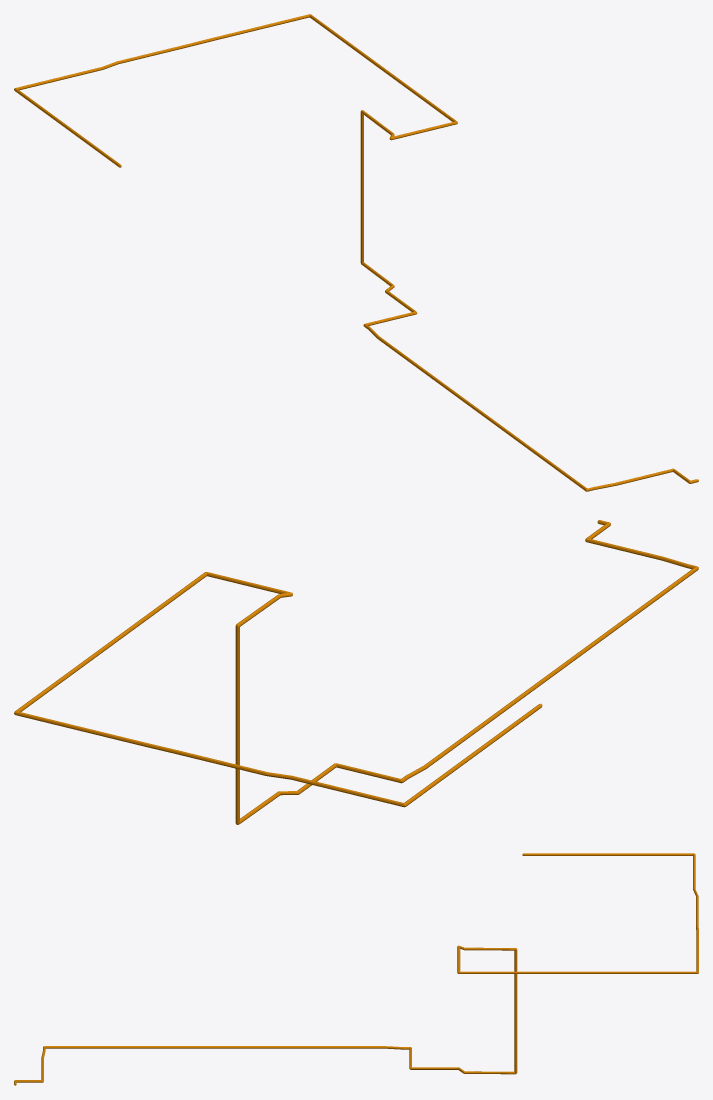
3 renders of one model, top to bottom at view 1: azimuth 30°, elevation 25°; view 2: azimuth 150°, elevation 25°; view 3: azimuth 270°, elevation 25°, orthographic. The views are drawn at different scales.
Bounding box in the file's own units: 2068 × 1020 × 5020.
